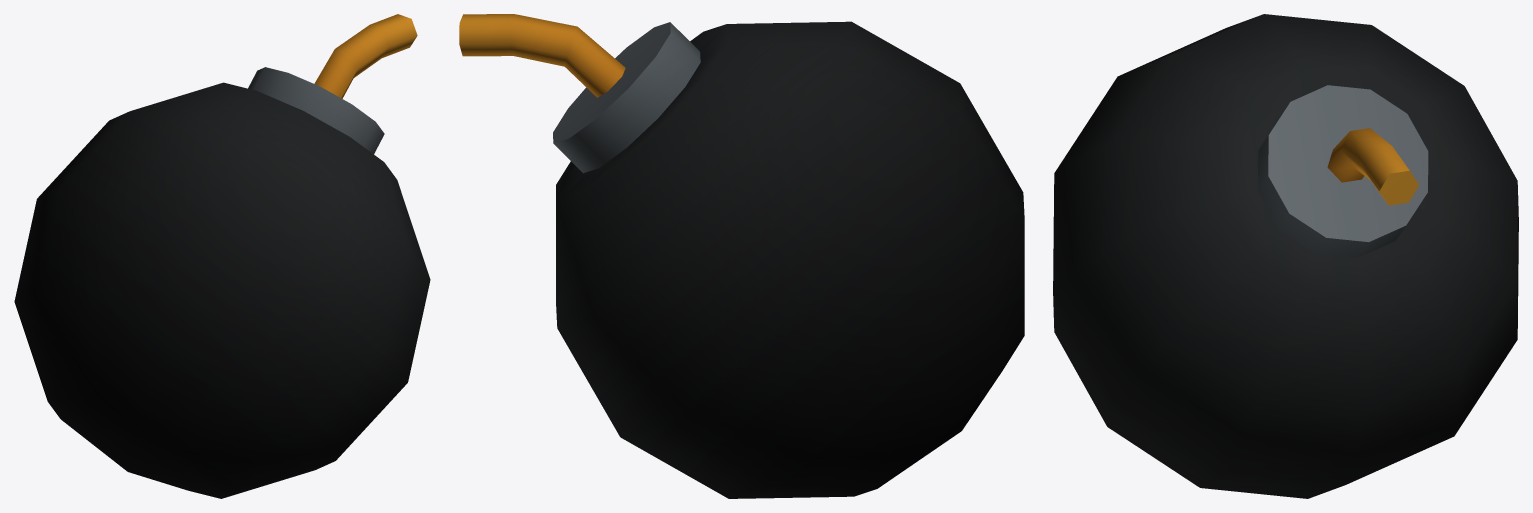
Rendered from Bomb 01.FBX.
3 renders of one model, left to right at view 1: azimuth 30°, elevation 25°; view 2: azimuth 150°, elevation 25°; view 3: azimuth 270°, elevation 25°, orthographic. The views are drawn at different scales.
Visible parts, largest first — view 1: Bomb 01; view 2: Bomb 01; view 3: Bomb 01.
Boxes of the visible parts, x1,y1,x2,y2 form: Bomb 01: (14, 14, 430, 498); Bomb 01: (459, 14, 1024, 498); Bomb 01: (1053, 14, 1518, 498).
Size of the model in its own units: 54.18 by 46.48 by 44.7.
